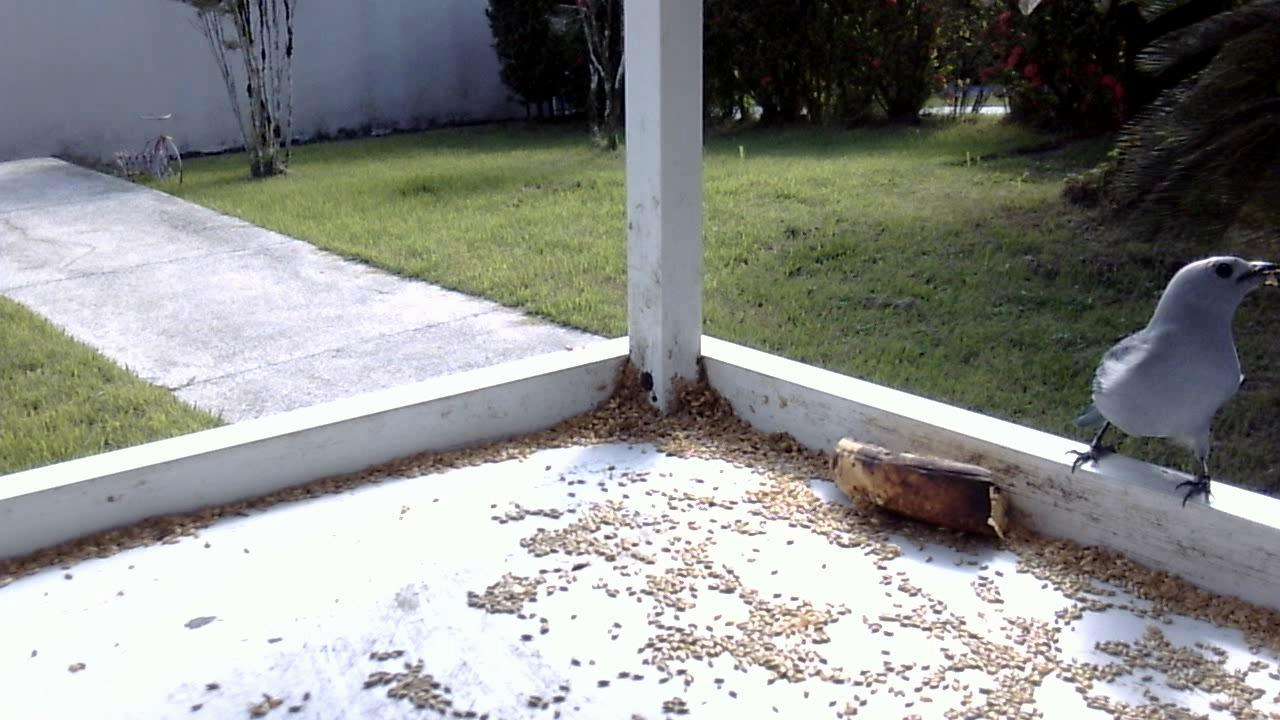sanhaco_da_amazonia: (1062, 248, 1273, 513)
